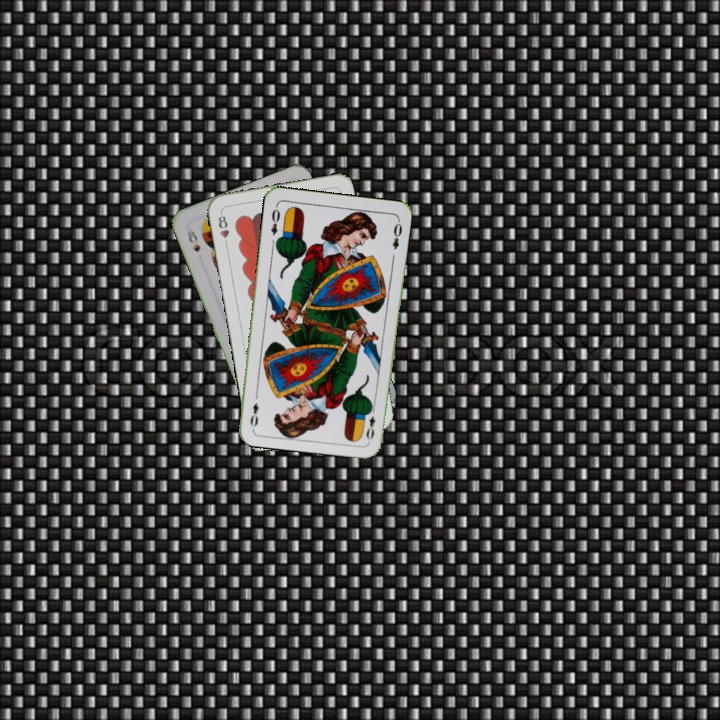EO: (362, 403, 378, 442), (266, 205, 283, 238)
H8: (214, 209, 232, 249)
S8: (183, 226, 203, 254)
